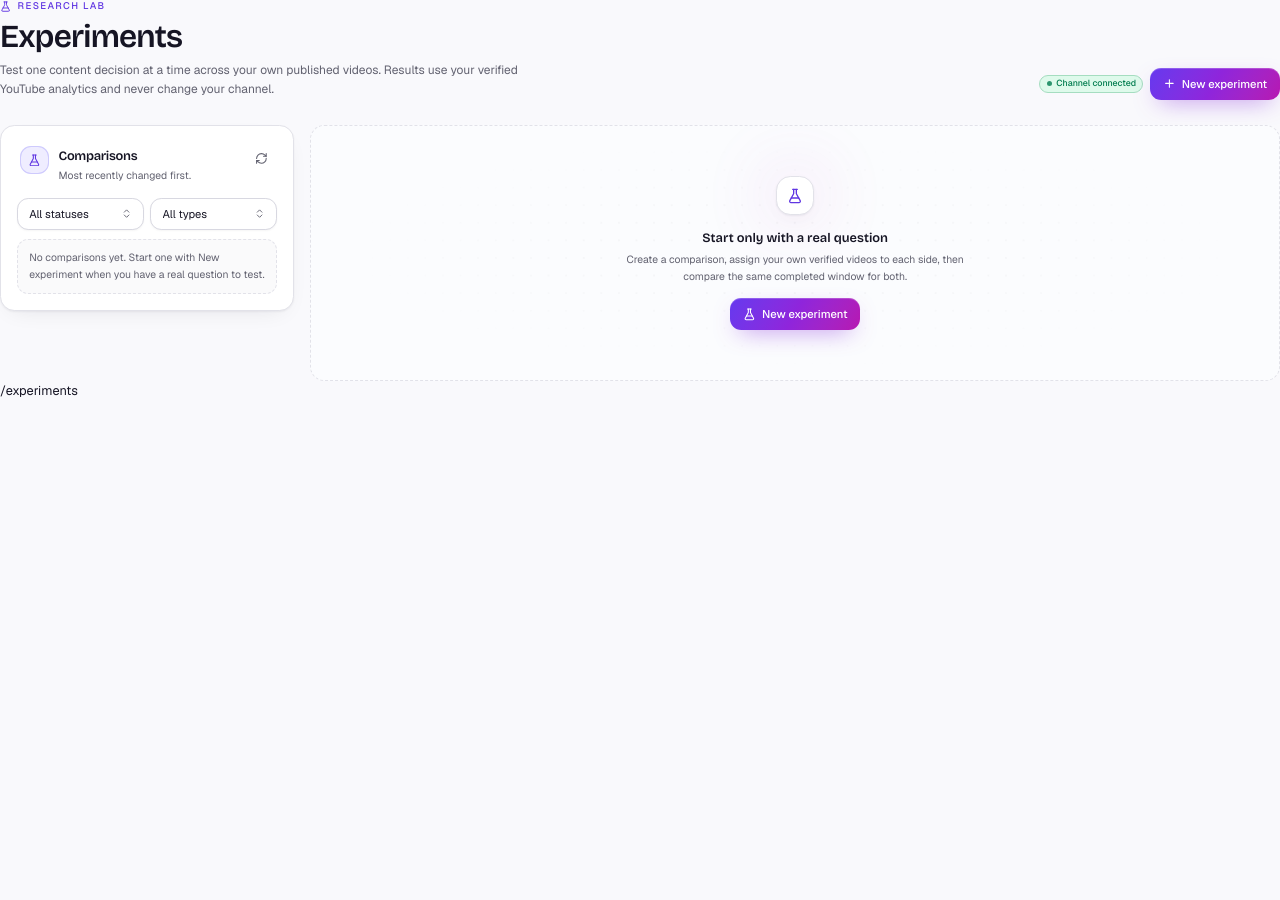
ExperimentsPage › invites a first comparison only when there are none
The image size is (1280, 900).
expect the text "Start only with a real question" is shown: met, box [702,230,888,245]
expect the text "No comparisons yet" is shown: met, box [29,251,265,281]
Click the button "New experiment" below "Start only with a real question": x=795, y=314 [730,298,860,330]
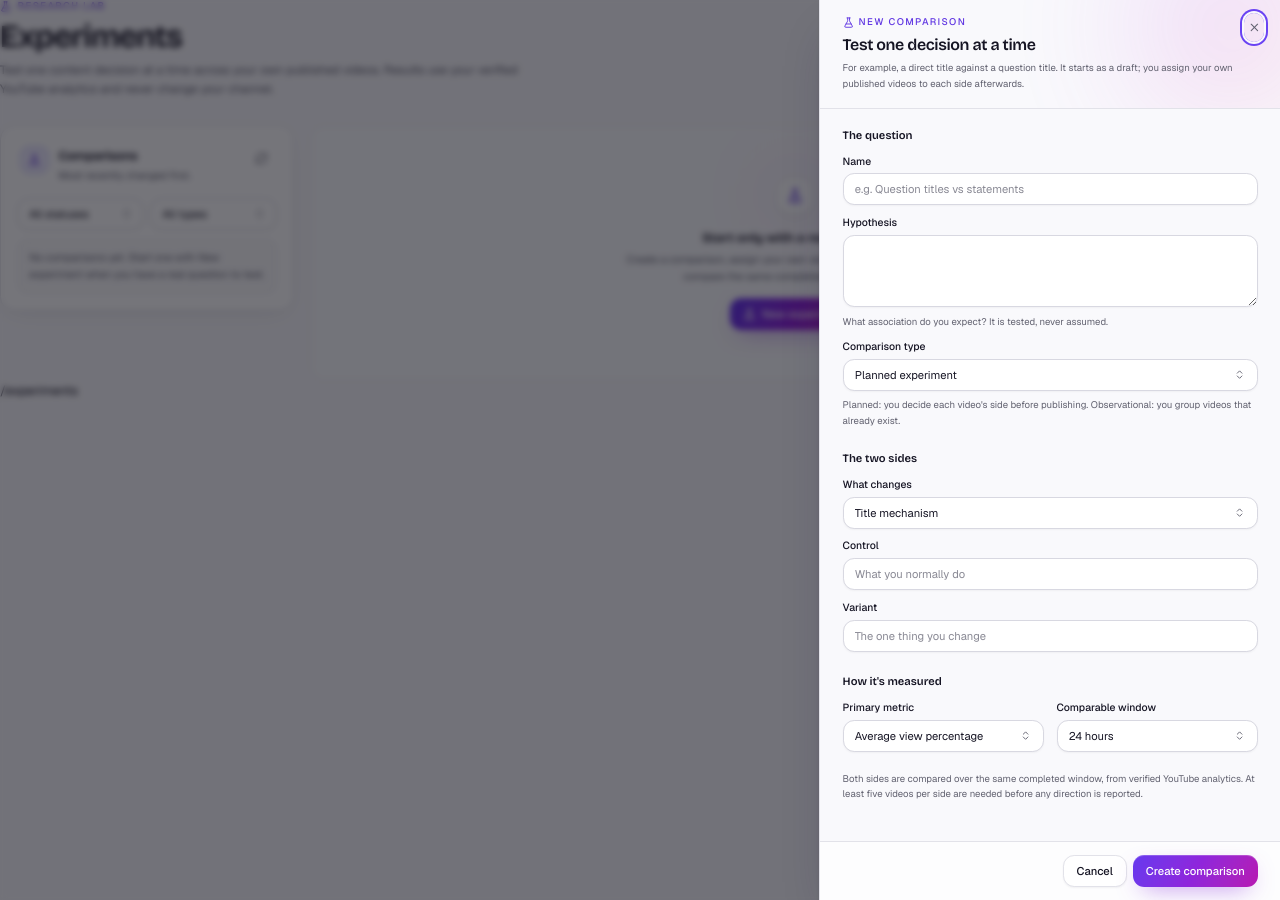
expect the dialog "Test one decision at a time" is shown: met, box [819,0,1279,899]
